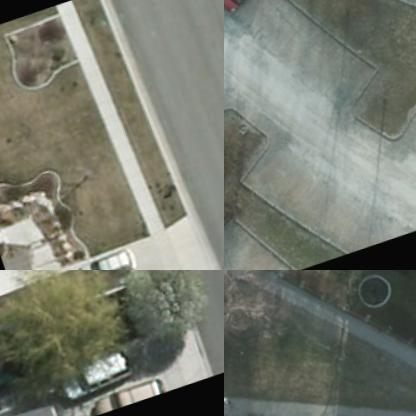car: (46, 340, 134, 406), (81, 379, 161, 415), (69, 247, 137, 269), (224, 0, 264, 17)
